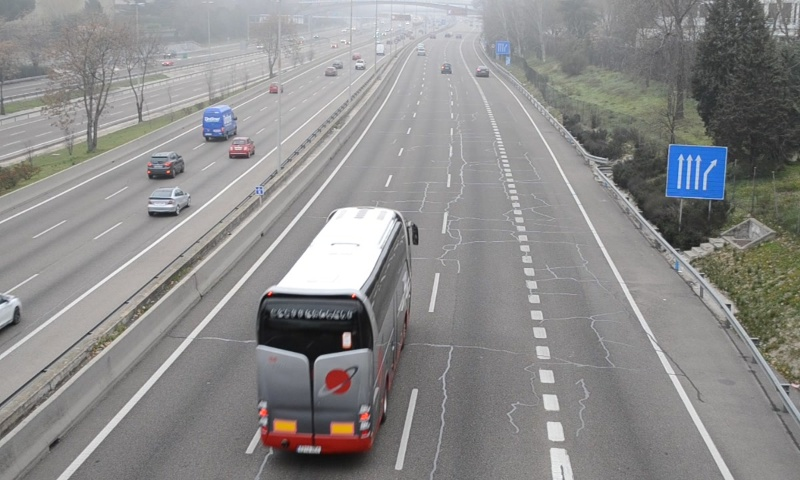bus: (255, 206, 412, 458)
car: (440, 62, 453, 76), (476, 66, 490, 78)
